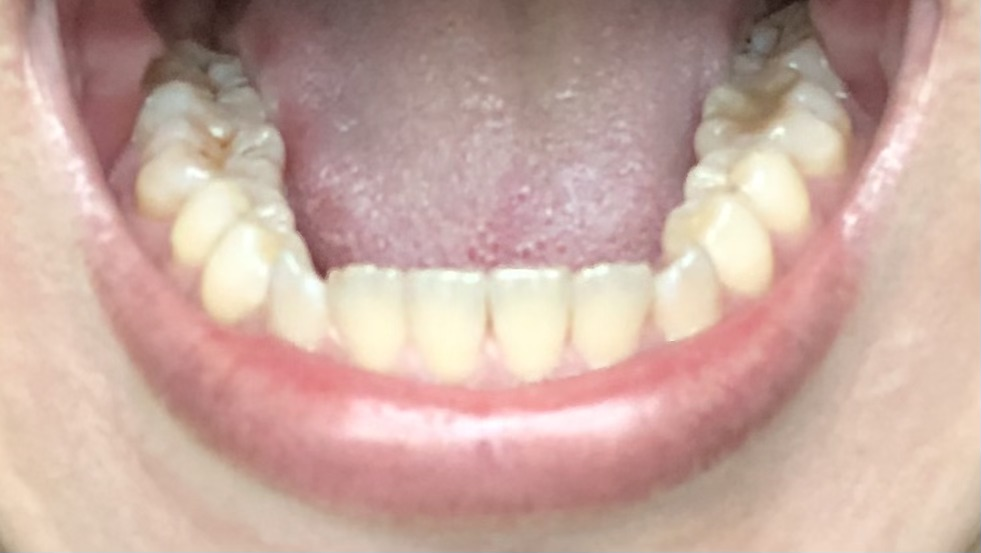teeth: (699, 68, 852, 170), (134, 120, 289, 212), (660, 191, 773, 295), (683, 141, 812, 226), (172, 183, 294, 262), (202, 222, 291, 323), (489, 270, 571, 376), (409, 272, 487, 380), (329, 264, 407, 367), (571, 268, 650, 367), (130, 82, 264, 137), (654, 250, 724, 335), (268, 266, 327, 344), (153, 33, 244, 80)
